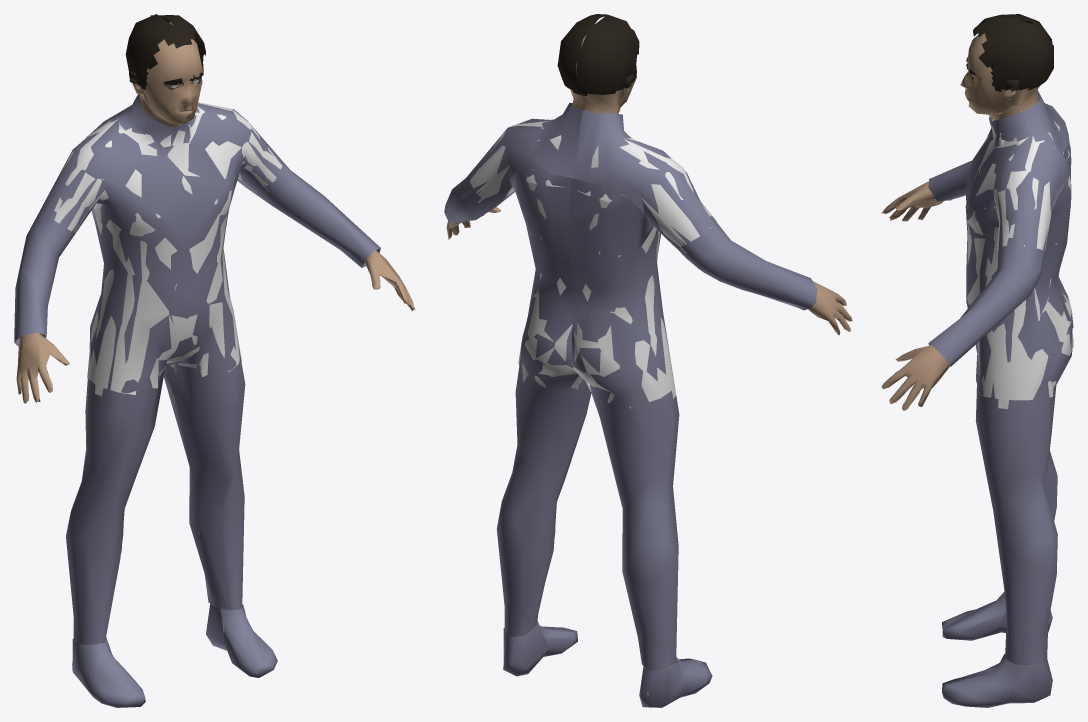
The model's file is man_05.glb.
The picture shows the model from 3 angles, left to right: view 1: azimuth 30°, elevation 25°; view 2: azimuth 150°, elevation 25°; view 3: azimuth 270°, elevation 25°; orthographic projection.
Visible parts, largest first — view 1: crowd; view 2: crowd; view 3: crowd.
Part boxes in pixels (x1=…): crowd: x1=14, y1=14, x2=415, y2=707; crowd: x1=444, y1=14, x2=852, y2=707; crowd: x1=881, y1=14, x2=1073, y2=707.
Size of the model in its own units: 1.1 by 1.76 by 0.4717.
